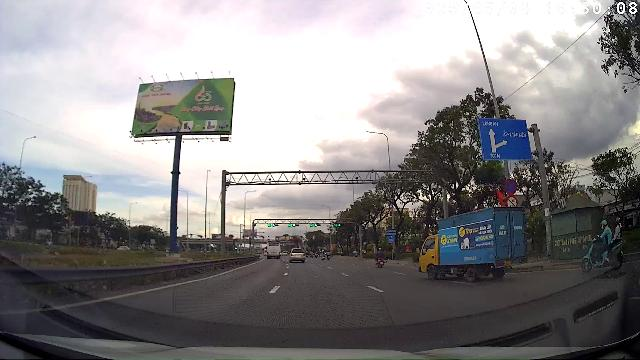130-cam-dung-va-do-xe: (504, 179, 518, 195)
